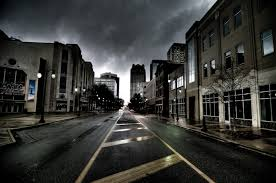strada: (65, 111, 209, 183)
